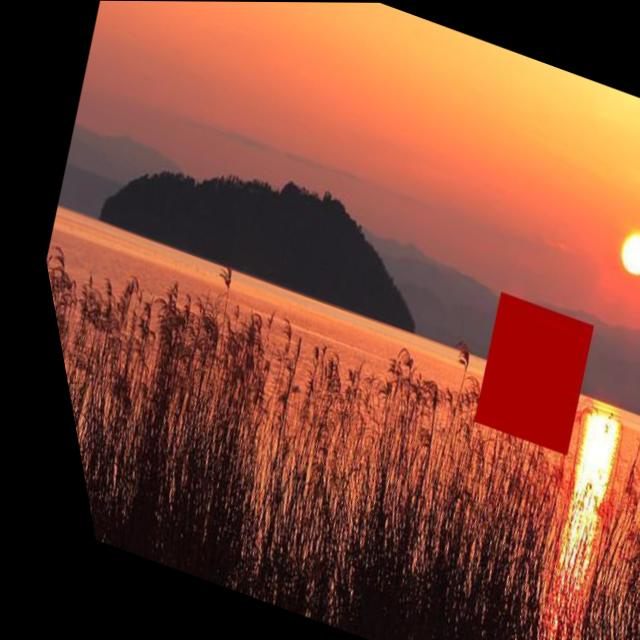RedSquare: (434, 286, 607, 466)
